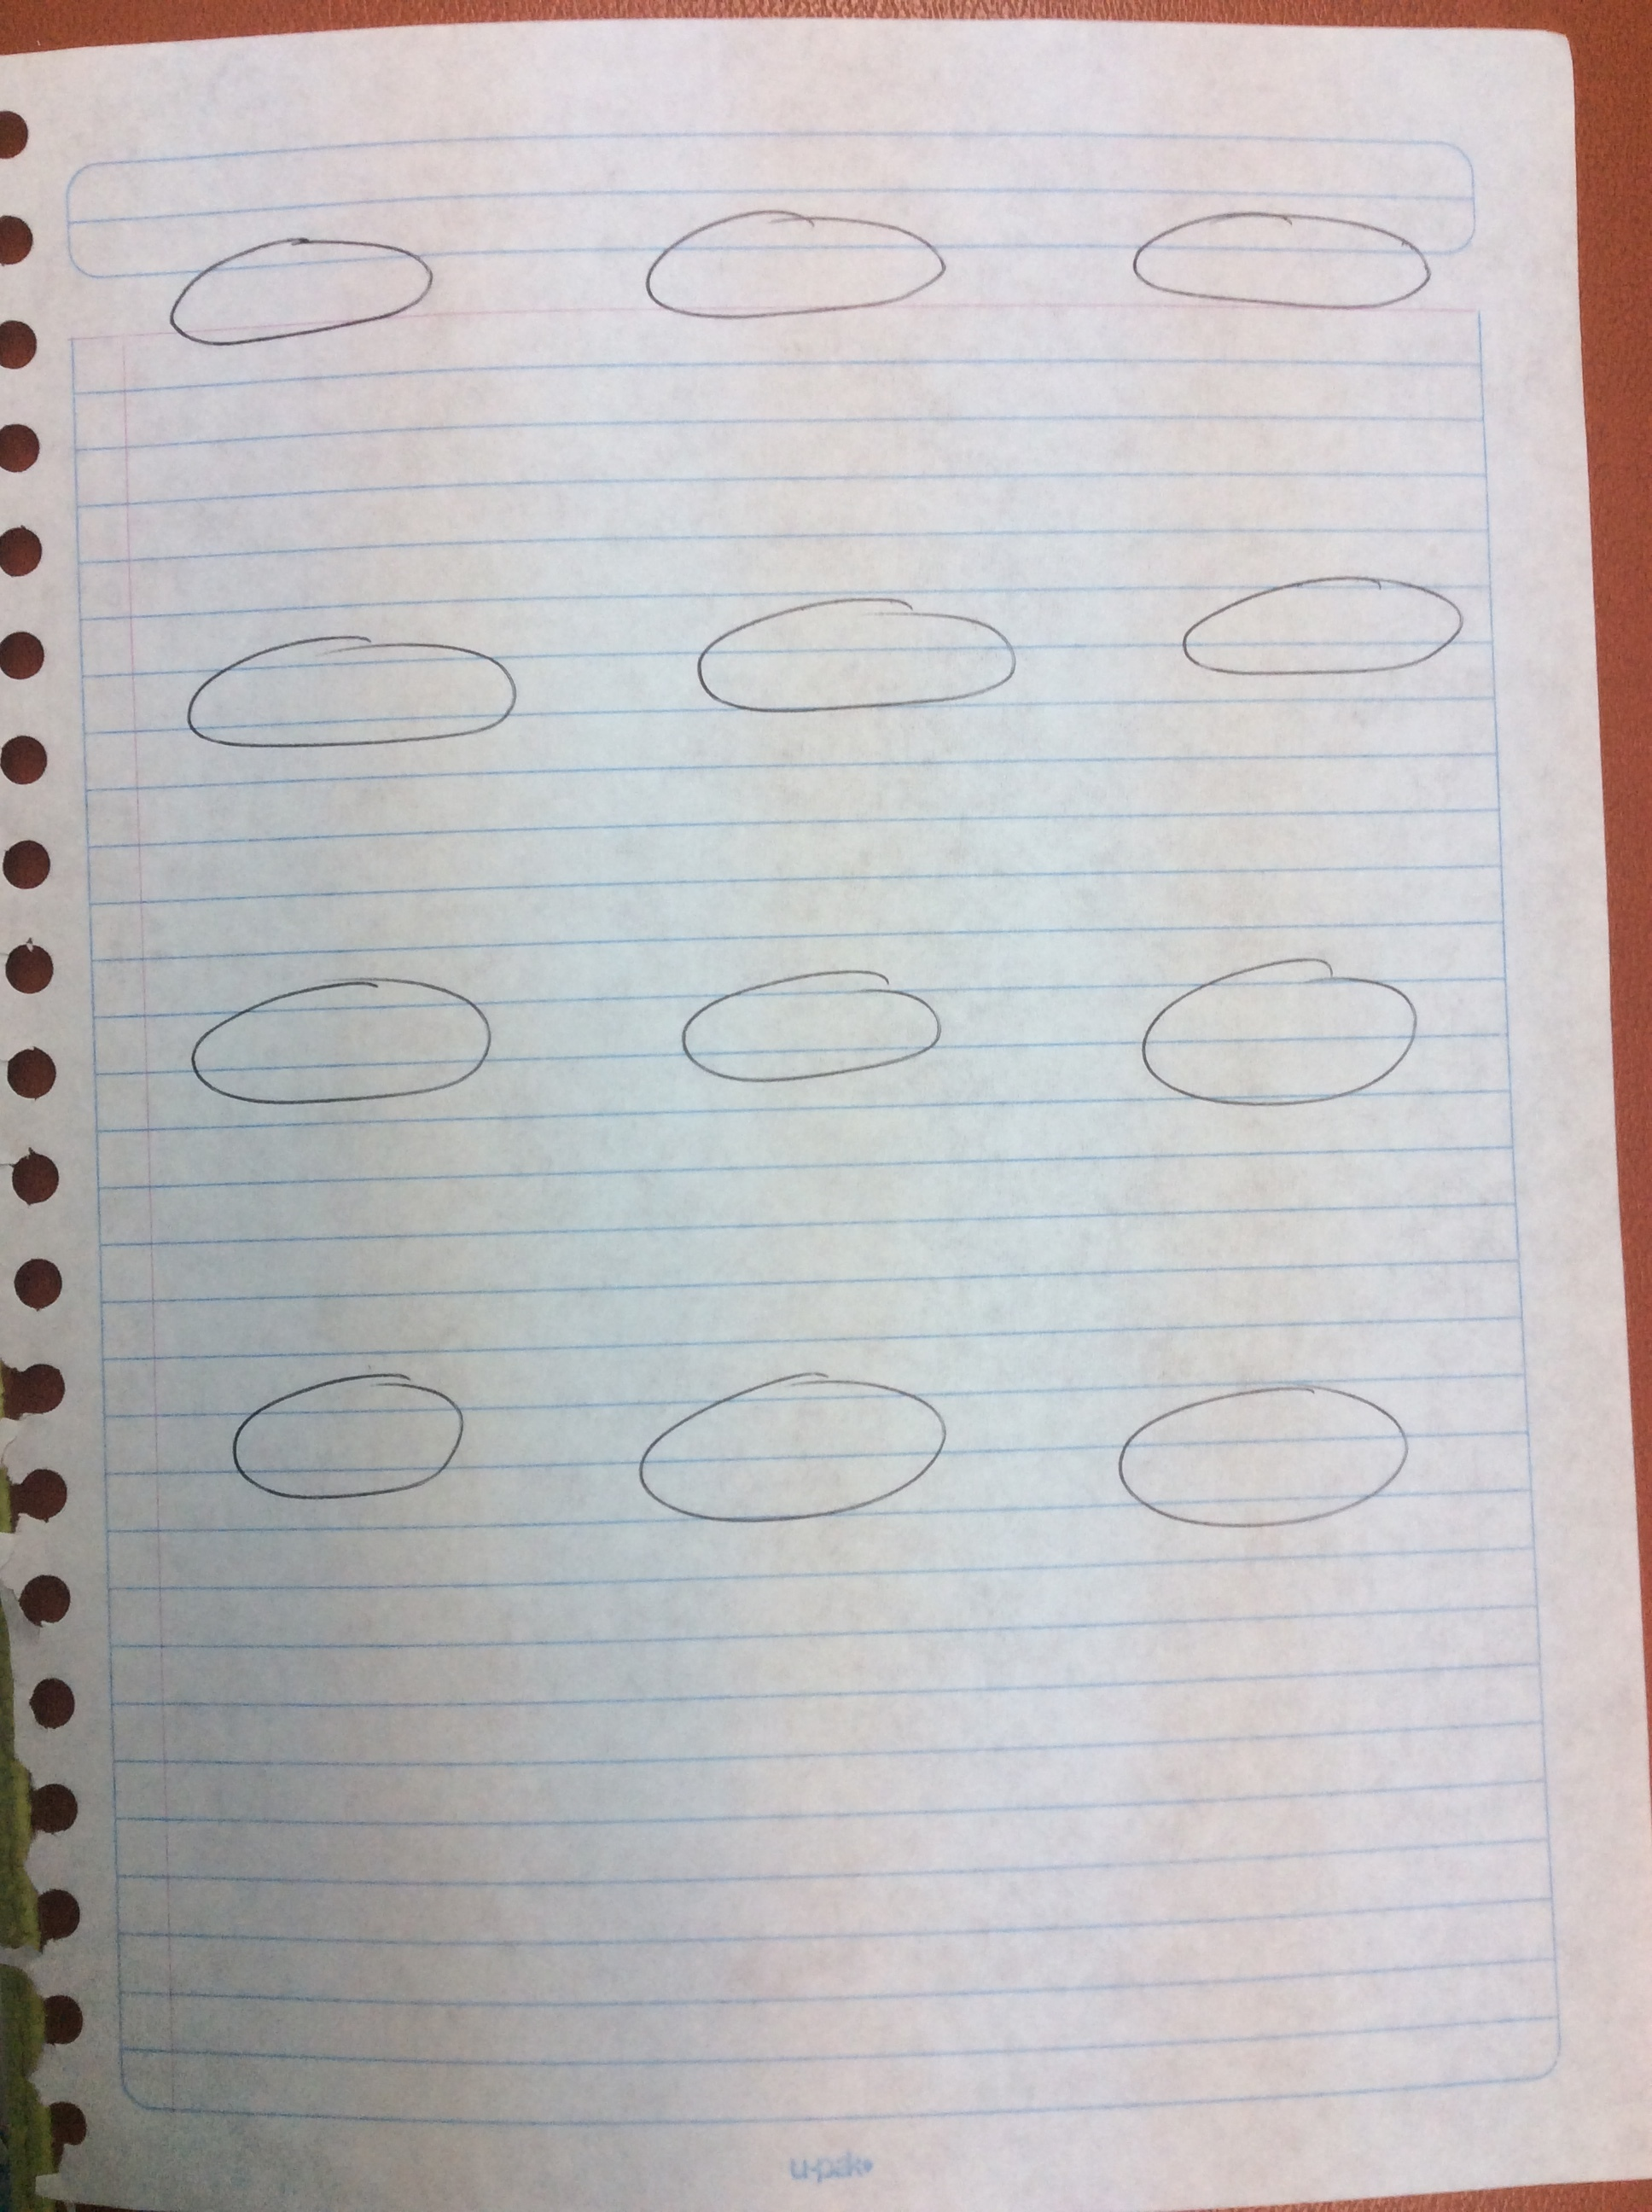start_end: (595, 1331, 979, 1556), (1085, 932, 1459, 1147), (139, 618, 574, 786), (1085, 1345, 1442, 1549), (651, 574, 1050, 748), (168, 1348, 514, 1546), (154, 959, 517, 1140), (606, 187, 972, 359), (1121, 180, 1452, 359), (647, 946, 975, 1119), (1142, 550, 1480, 710), (139, 226, 472, 366)
